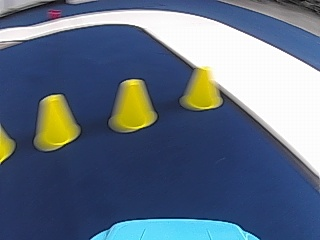cone: (33, 94, 80, 151), (109, 79, 158, 132), (179, 64, 222, 110)
